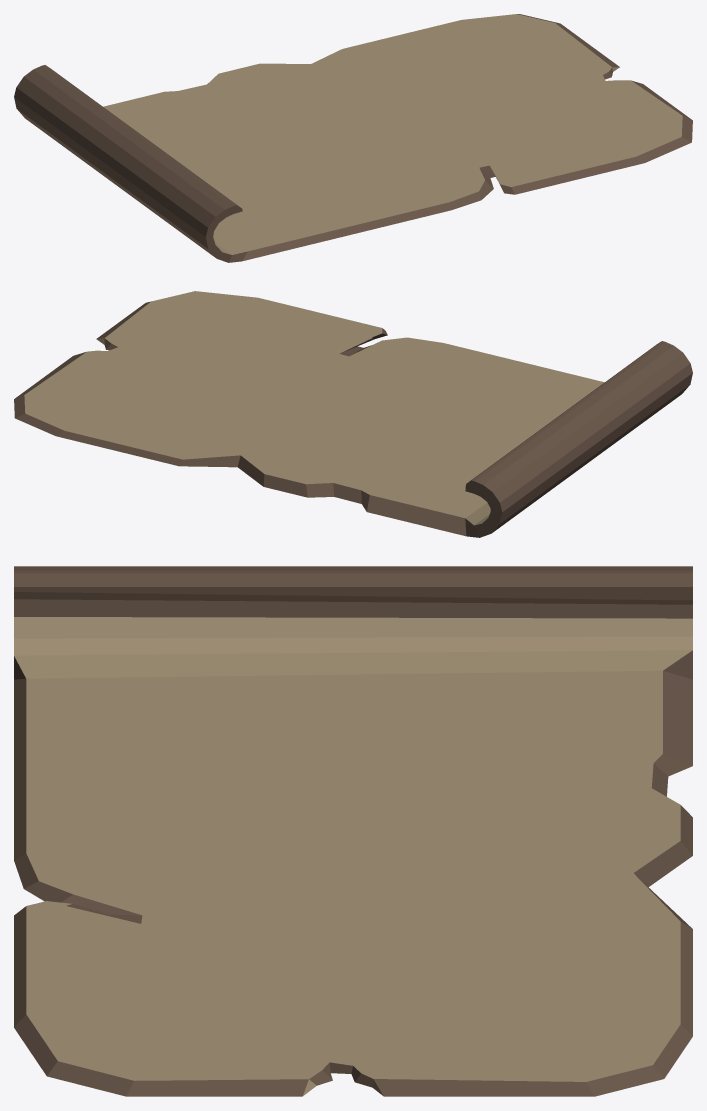
Rendered from graveyardPaper.fbx.
The picture shows the model from 3 angles, top to bottom: view 1: azimuth 30°, elevation 25°; view 2: azimuth 150°, elevation 25°; view 3: azimuth 270°, elevation 25°; orthographic projection. The views are drawn at different scales.
Visible parts, largest first — view 1: Cube; view 2: Cube; view 3: Cube.
Part boxes in pixels (box(x1,y1,x2,y2)): Cube: box(14, 14, 692, 262); Cube: box(14, 291, 692, 537); Cube: box(14, 566, 692, 1096).
Bounding box in the file's own units: 430 × 45.56 × 275.
